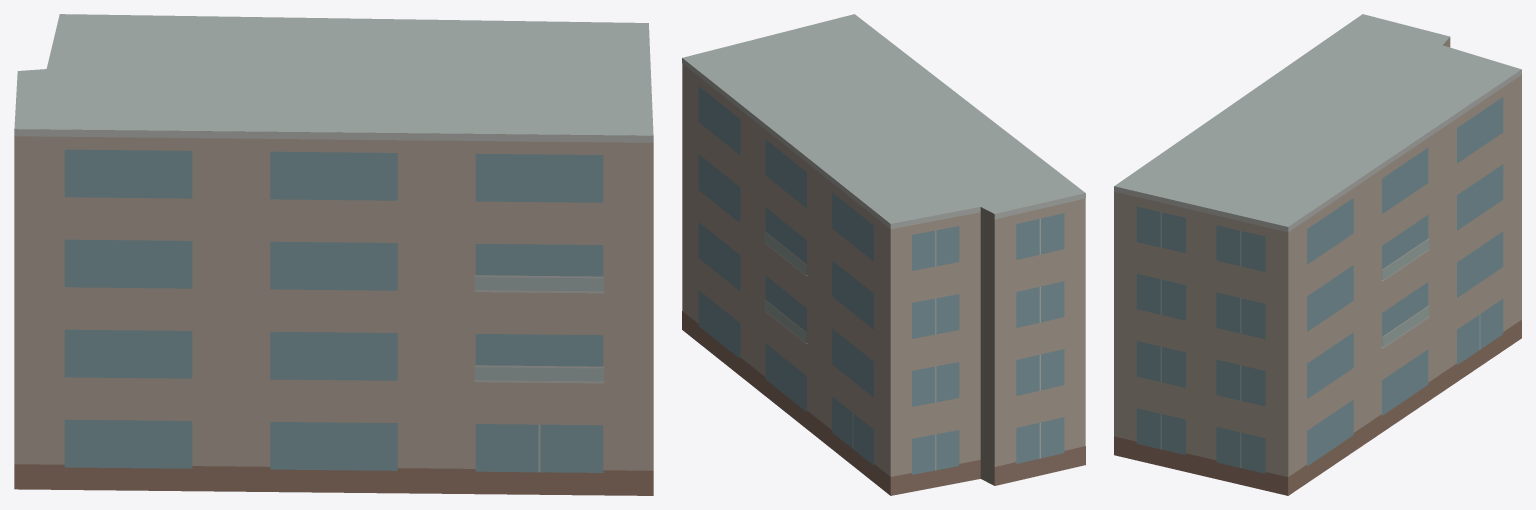
The model's file is survey-upis-32692654.glb.
3 views of the same model, side by side, from view 1: azimuth 30°, elevation 25°; view 2: azimuth 150°, elevation 25°; view 3: azimuth 270°, elevation 25° (orthographic). The views are drawn at different scales.
Visible parts, largest first — view 1: survey-upis-32692654.tmp; view 2: survey-upis-32692654.tmp; view 3: survey-upis-32692654.tmp.
Part boxes in pixels (left/top/right/bottom): survey-upis-32692654.tmp: left=14, top=14, right=653, bottom=495; survey-upis-32692654.tmp: left=682, top=14, right=1085, bottom=495; survey-upis-32692654.tmp: left=1114, top=14, right=1521, bottom=495.
Bounding box in the file's own units: 20.9 × 12.3 × 16.91.
